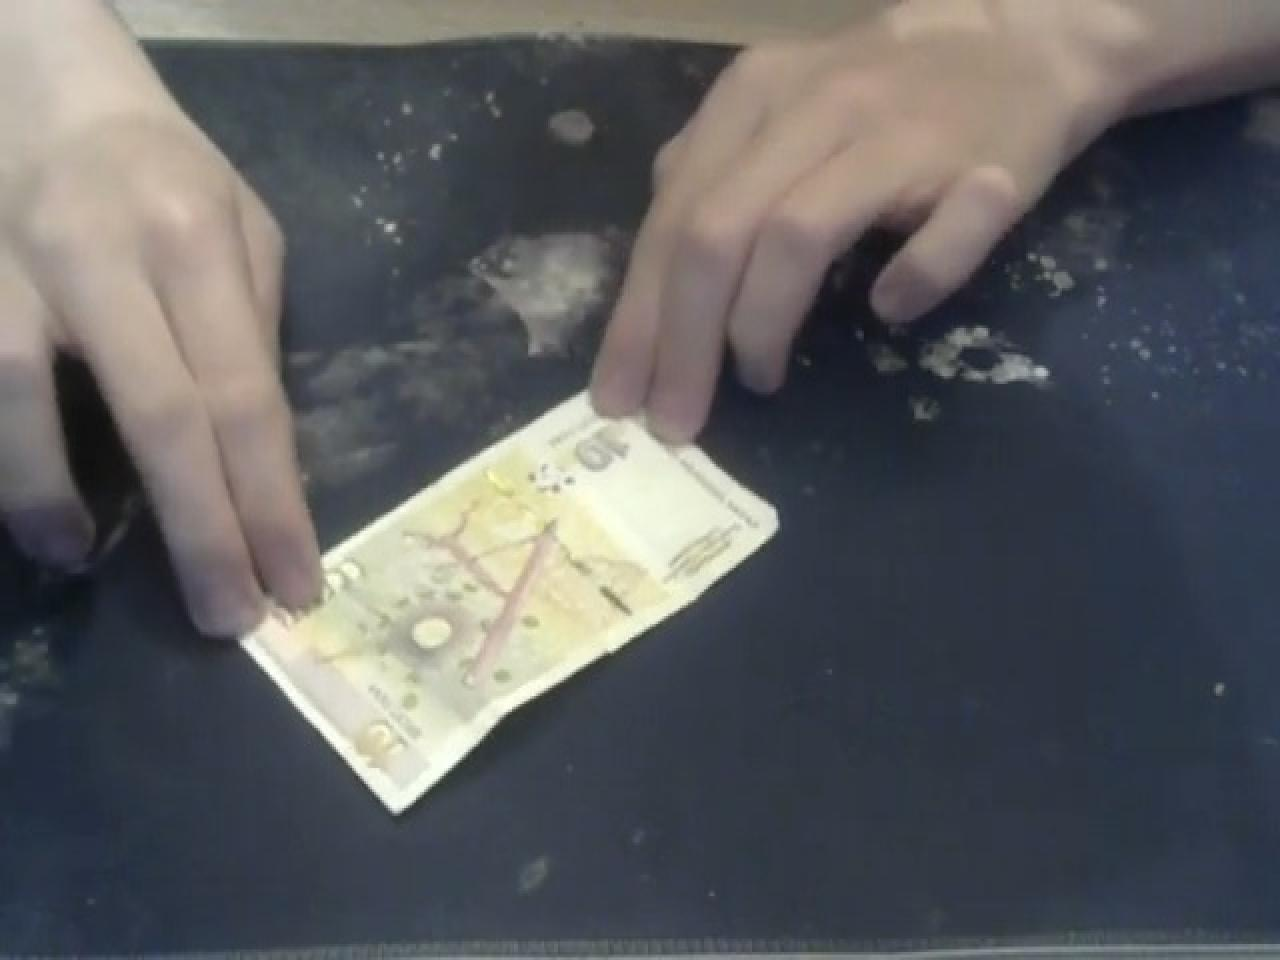10leva: (126, 394, 808, 918)
